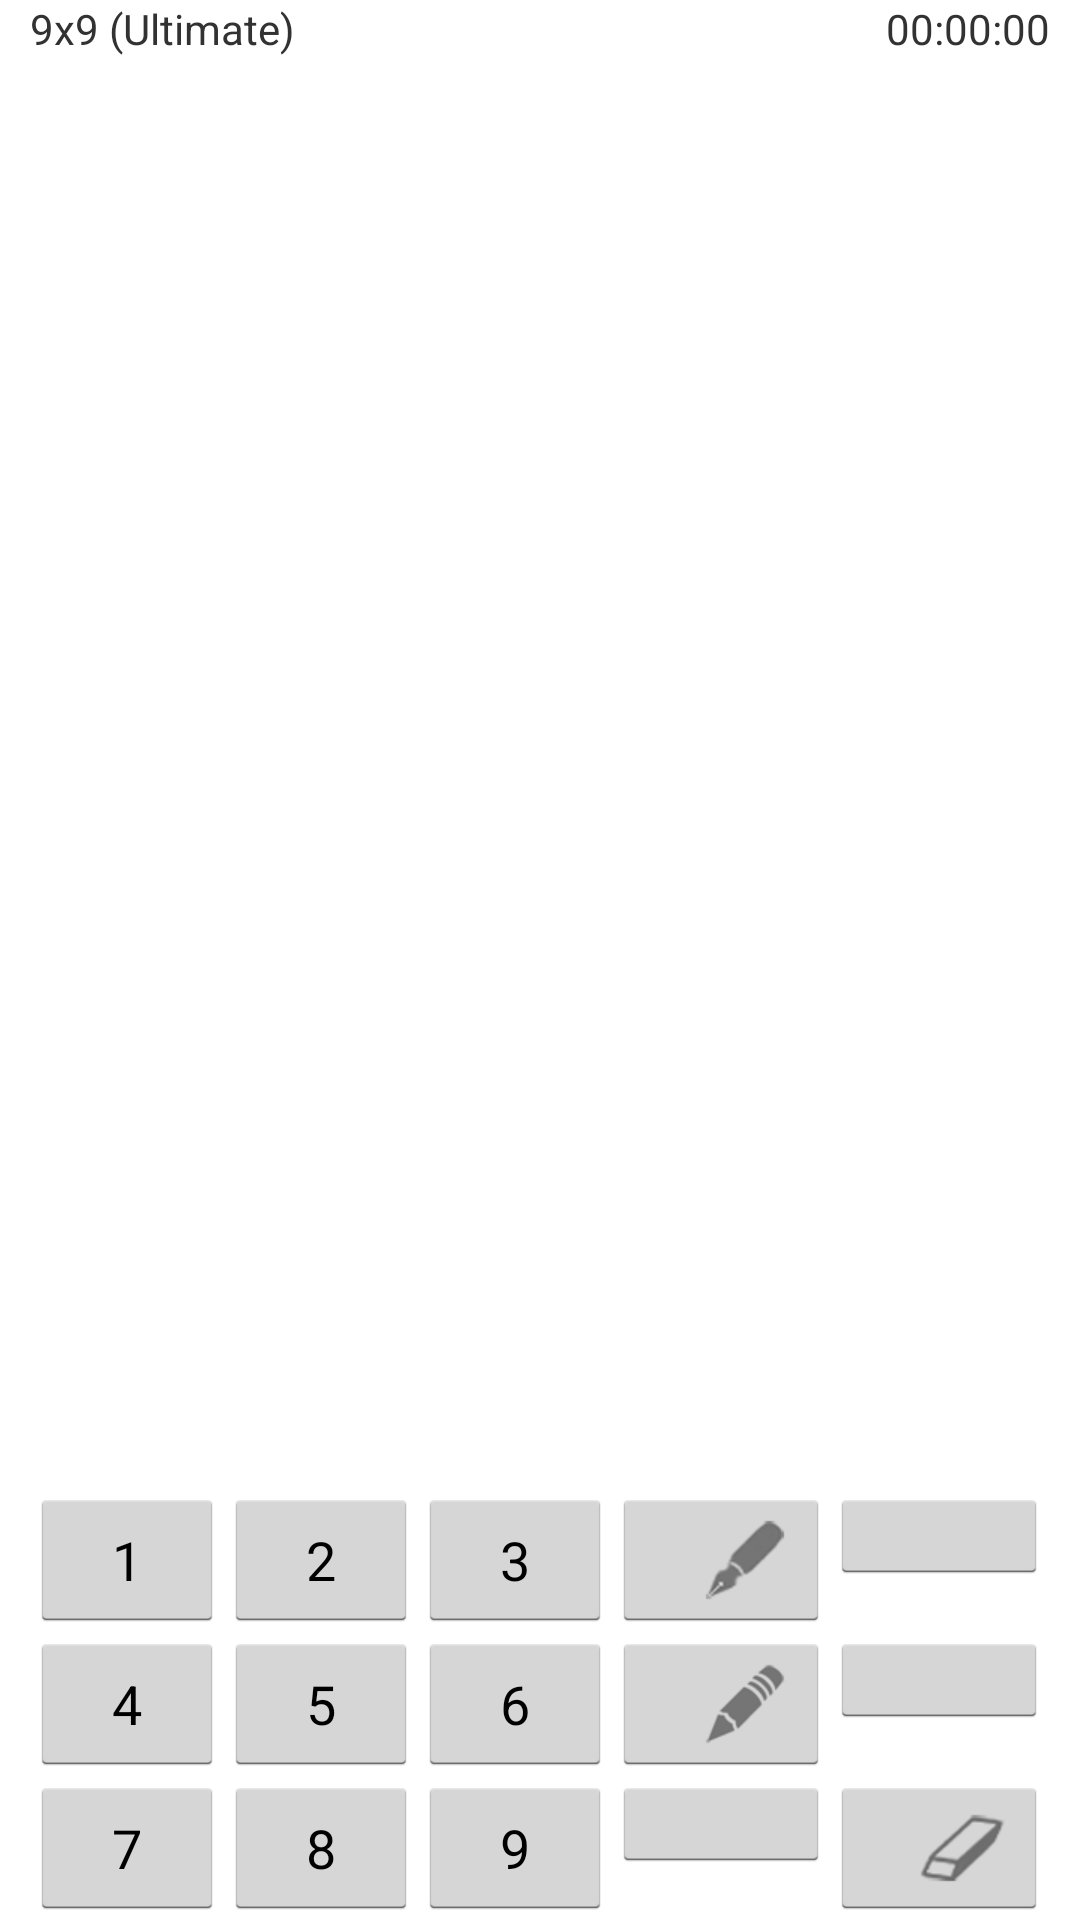

Icons on this 1080px x 1920px Android screen, each with the point to tap as (x,y):
eraser: (939,1849)
pen: (721,1561)
pencil: (721,1705)
